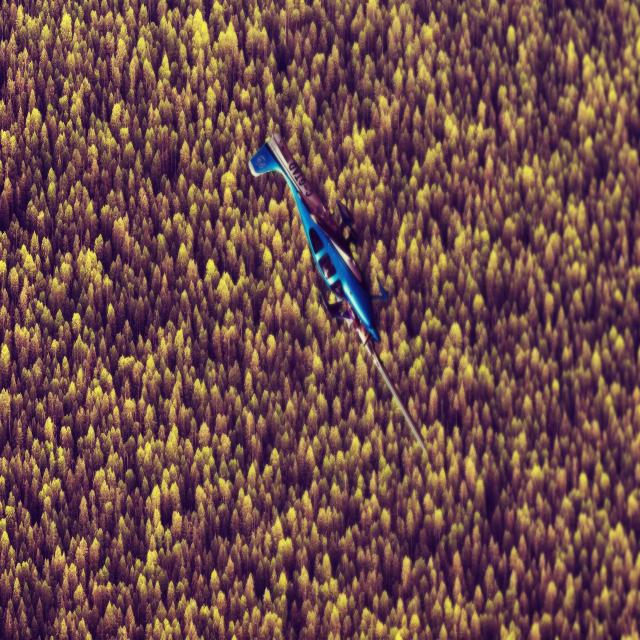airplane: (248, 130, 429, 463)
